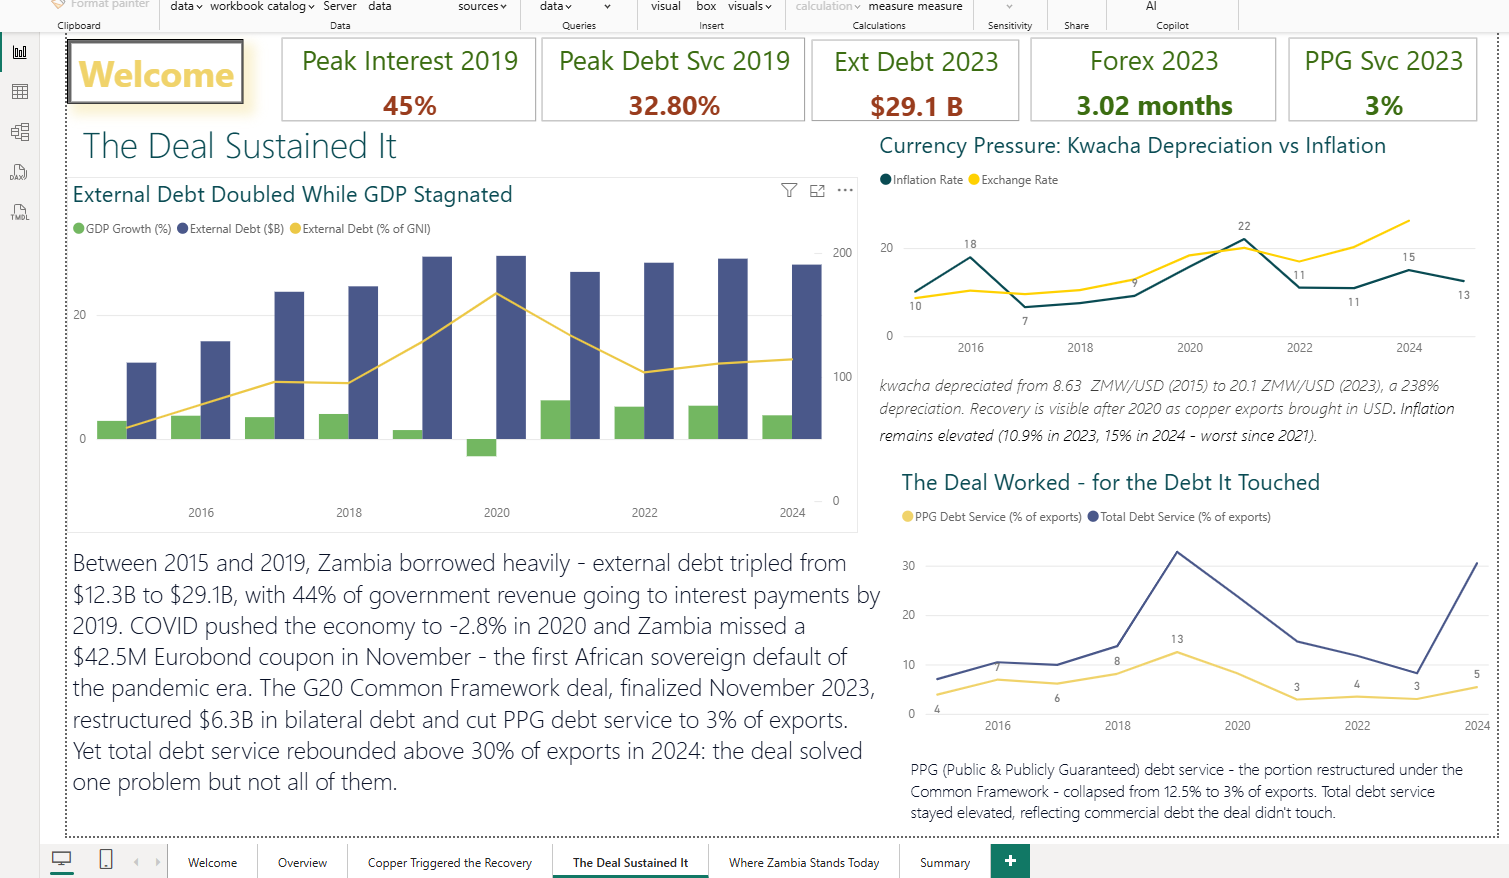

The dashboard page shown, as its layout file describes it:
{"tool":"powerbi","page":{"name":"The Deal Sustained It","canvas":[1280,720],"ordinal":3},"visuals":[{"type":"lineChart","title":"Currency Pressure: Kwacha Depreciation vs Inflation","fields":{"Category":["Master_Economic_Data.Year"],"Y":["Master_Economic_Data.Inflation Rate","Master_Economic_Data.Exchange Rate"]},"box":[722.7,86,545.1,215],"z":0},{"type":"actionButton","box":[0,6.5,158,58],"z":1000},{"type":"textbox","box":[0,72.1,354.3,57.7],"z":2000},{"type":"cardVisual","title":"Peak Interest ","fields":{"Data":["Debt_Detail.Peak Interest"]},"box":[187.5,0,238.9,85.6],"z":3000},{"type":"cardVisual","fields":{"Data":["Macro_Annual.Ext Debt 2023"]},"box":[661.6,1.8,196.5,83.8],"z":4000},{"type":"cardVisual","fields":{"Data":["Debt_Detail.Peak Debt Svc"]},"box":[420.1,0,246.1,85.6],"z":5000},{"type":"cardVisual","fields":{"Data":["Debt_Detail.PPG Svc 2023"]},"box":[1088.9,0,179.4,85.6],"z":6000},{"type":"lineClusteredColumnComboChart","title":"External Debt Doubled While GDP Stagnated","fields":{"Y":["Sum(Macro_Annual.GDP_Growth_Pct)","Sum(Macro_Annual.ExtDebt_Total_Billions)"],"Y2":["Sum(Macro_Annual.ExtDebt_PctGNI)"],"Category":["Macro_Annual.Year"]},"box":[0,130,708.7,318.8],"z":7000},{"type":"textbox","box":[0,455.2,733.7,265],"z":8000},{"type":"lineChart","title":"The Deal Worked - for the Debt It Touched","fields":{"Y":["Sum(Debt_Detail.PPG_DebtService_PctExports)","Sum(Macro_Annual.DebtService_PctExports)"],"Category":["Macro_Annual.Year"]},"box":[742.8,387.6,537.2,251.5],"z":9000},{"type":"textbox","box":[722.9,301.1,536.3,86.5],"z":10000},{"type":"cardVisual","fields":{"Data":["Macro_Annual.Forex 2023"]},"box":[858.1,0,230.8,85.6],"z":12000},{"type":"textbox","box":[750.9,645.4,517.4,74.8],"z":13000}]}

Visuals, with their boxes on the page's 1280x720 design canvas (x1, y1, x2, y2). These are canvas units, not pixel positions in the 1509x878 screenshot, which may show the page scaled, cropped or inside an application window:
"Currency Pressure: Kwacha Depreciation vs Inflation" lineChart: select_region(723, 86, 1268, 301)
actionButton: select_region(0, 6, 158, 64)
textbox: select_region(0, 72, 354, 130)
"Peak Interest " cardVisual: select_region(188, 0, 426, 86)
cardVisual - Macro_Annual.Ext Debt 2023: select_region(662, 2, 858, 86)
cardVisual - Debt_Detail.Peak Debt Svc: select_region(420, 0, 666, 86)
cardVisual - Debt_Detail.PPG Svc 2023: select_region(1089, 0, 1268, 86)
"External Debt Doubled While GDP Stagnated" lineClusteredColumnComboChart: select_region(0, 130, 709, 449)
textbox: select_region(0, 455, 734, 720)
"The Deal Worked - for the Debt It Touched" lineChart: select_region(743, 388, 1280, 639)
textbox: select_region(723, 301, 1259, 388)
cardVisual - Macro_Annual.Forex 2023: select_region(858, 0, 1089, 86)
textbox: select_region(751, 645, 1268, 720)
